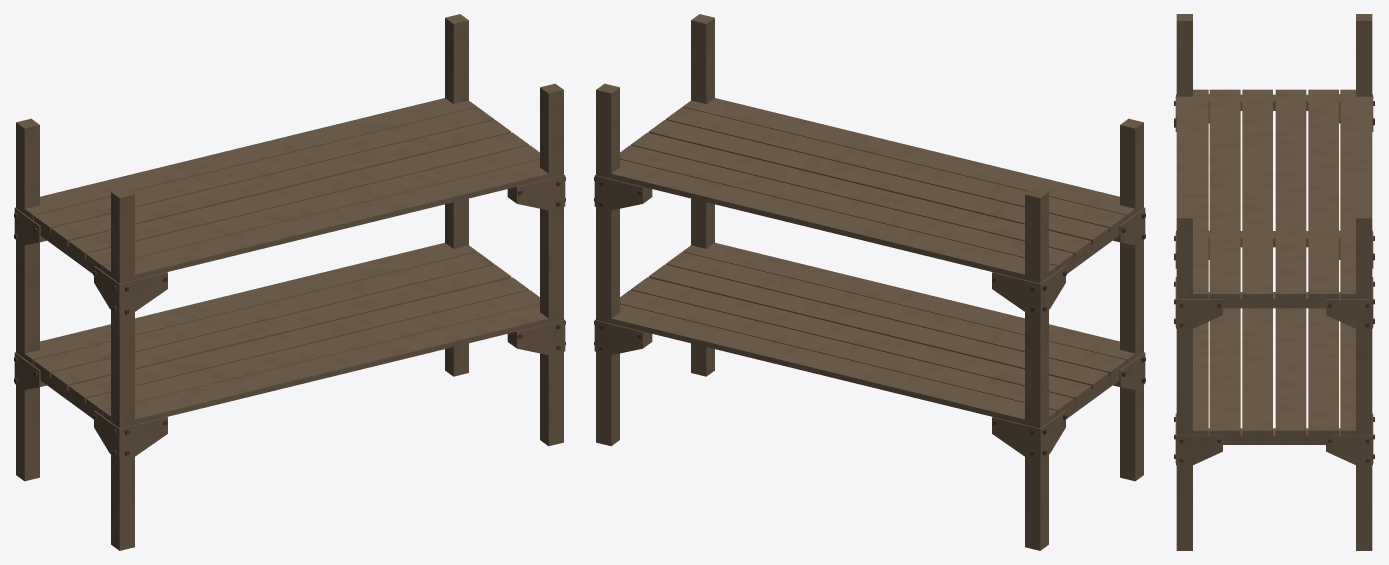
The model's file is Polka.fbx.
3 renders of one model, left to right at view 1: azimuth 30°, elevation 25°; view 2: azimuth 150°, elevation 25°; view 3: azimuth 270°, elevation 25°, orthographic. The views are drawn at different scales.
Parts seen in each view (by area): view 1: Cube.014; view 2: Cube.014; view 3: Cube.014.
Boxes of the visible parts, box(x1,y1,x2,y2) form: Cube.014: box(14, 14, 565, 550); Cube.014: box(594, 14, 1145, 550); Cube.014: box(1174, 14, 1374, 550).
Size of the model in its own units: 365 by 273 by 149.
